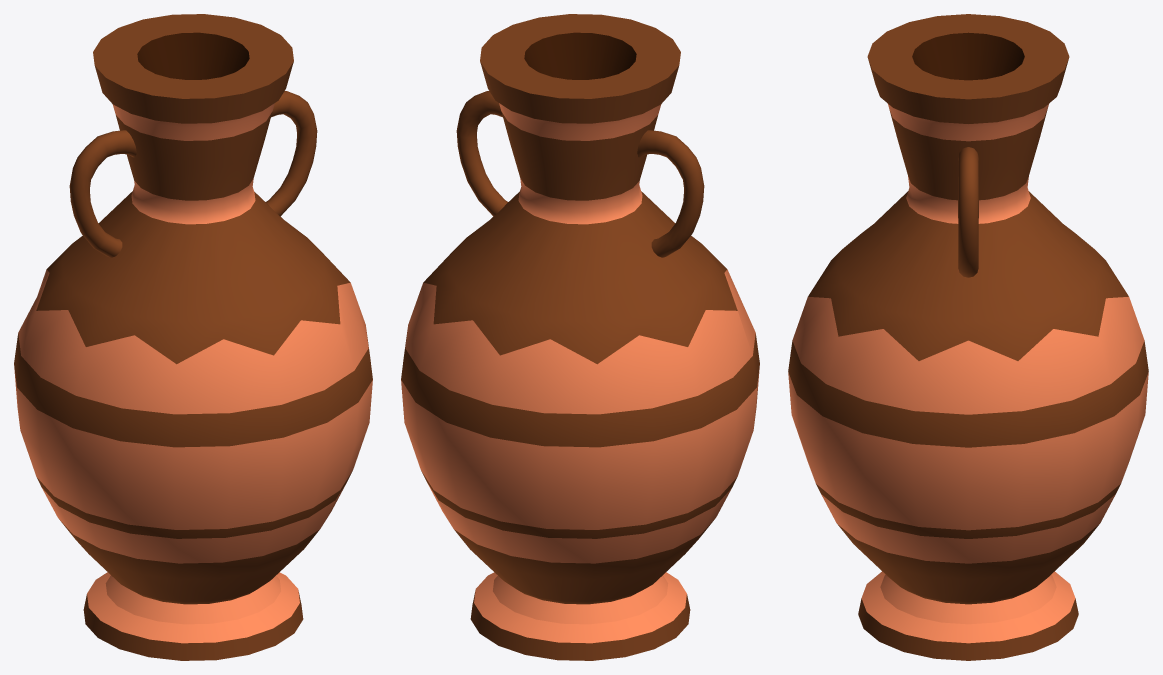
The model's file is Vase.fbx.
The picture shows the model from 3 angles, left to right: view 1: azimuth 30°, elevation 25°; view 2: azimuth 150°, elevation 25°; view 3: azimuth 270°, elevation 25°; orthographic projection.
Parts seen in each view (by area): view 1: Vase; view 2: Vase; view 3: Vase.
Boxes of the visible parts, <box> form: Vase: <box>14,14,372,660</box>; Vase: <box>401,14,759,660</box>; Vase: <box>788,14,1148,660</box>.
Size of the model in its own units: 99.59 by 170 by 99.59.
